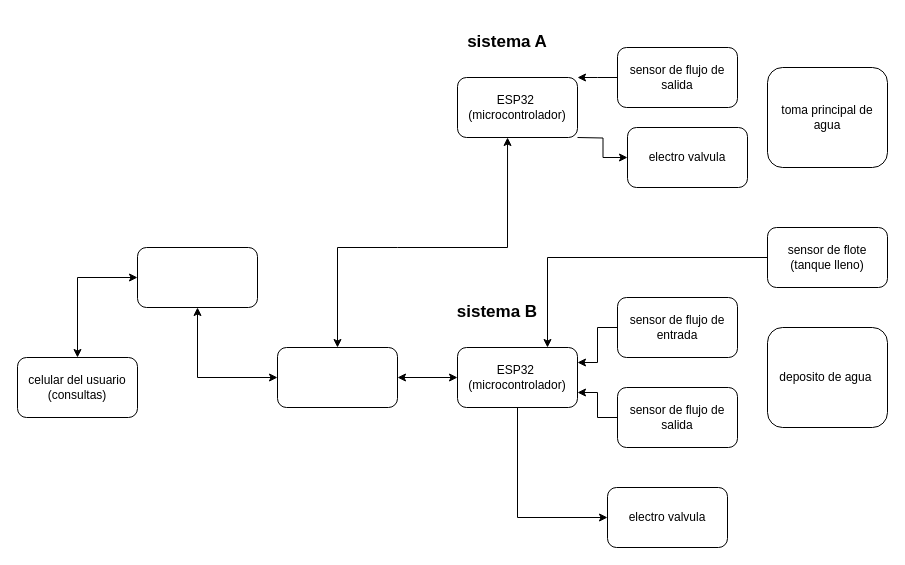
This 905x565 diagram has some shape labels left out. The centre of each missing label's shape, as x and y in pixels:
broker MQTT: [337,377]
servidor local: [197,277]
